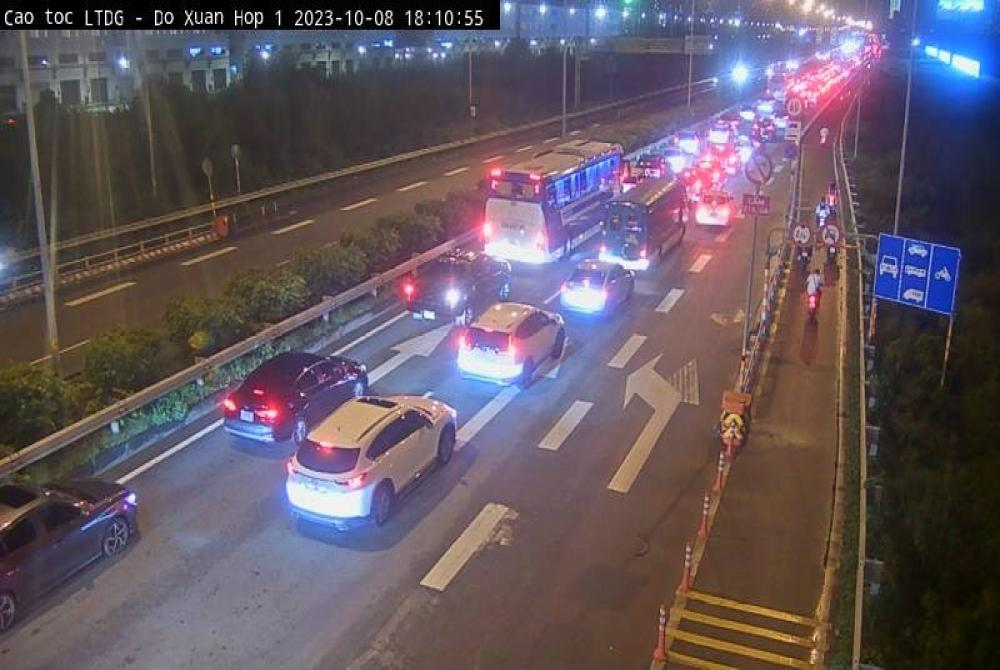bus: (484, 137, 624, 263)
car: (285, 387, 461, 532), (0, 469, 140, 628), (223, 349, 369, 447), (456, 301, 567, 389), (600, 176, 690, 270), (403, 250, 513, 325), (556, 260, 635, 316), (350, 326, 351, 332)
